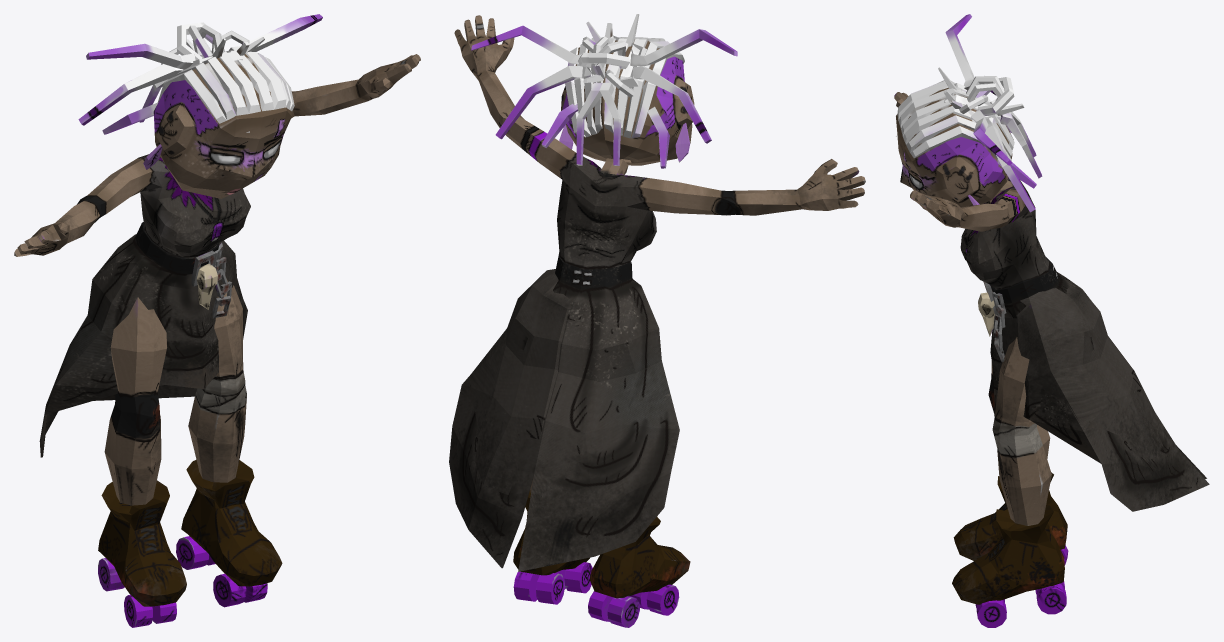
The model's file is bruja_000101.obj.
3 renders of one model, left to right at view 1: azimuth 30°, elevation 25°; view 2: azimuth 150°, elevation 25°; view 3: azimuth 270°, elevation 25°, orthographic. The views are drawn at different scales.
Parts seen in each view (by area): view 1: Bruja_Plane.001; view 2: Bruja_Plane.001; view 3: Bruja_Plane.001.
Boxes of the visible parts, left/top/right/bottom form: Bruja_Plane.001: left=14, top=14, right=420, bottom=627; Bruja_Plane.001: left=449, top=14, right=865, bottom=627; Bruja_Plane.001: left=894, top=14, right=1209, bottom=627.
Bounding box in the file's own units: 11.77 × 16.39 × 8.69.
